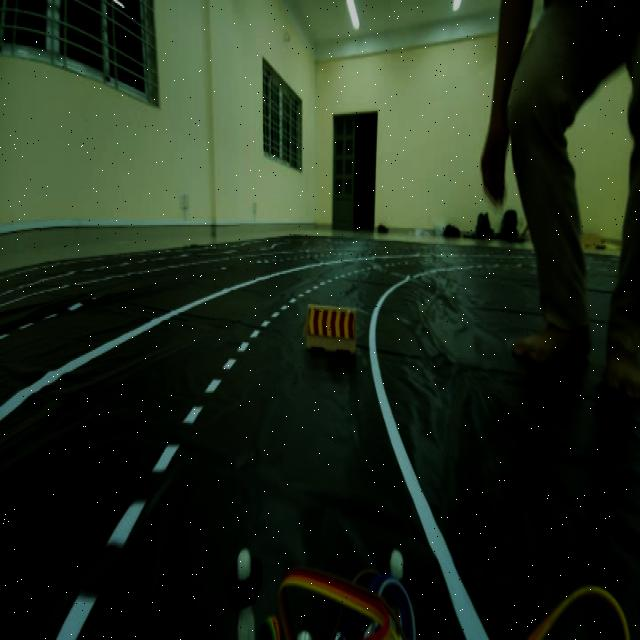roadblock: (300, 295, 364, 359)
